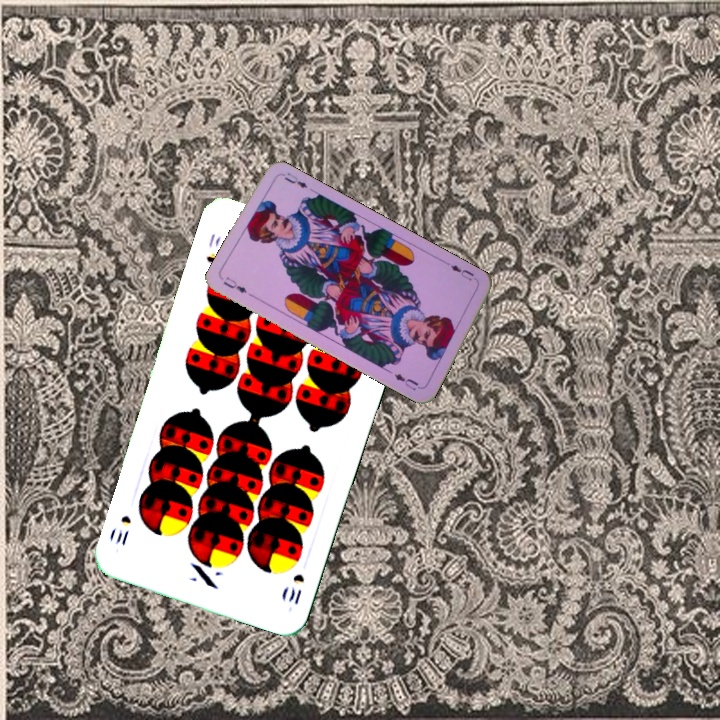EU: (446, 261, 480, 285), (219, 273, 249, 296)
S10: (284, 569, 307, 607), (202, 229, 223, 266)
